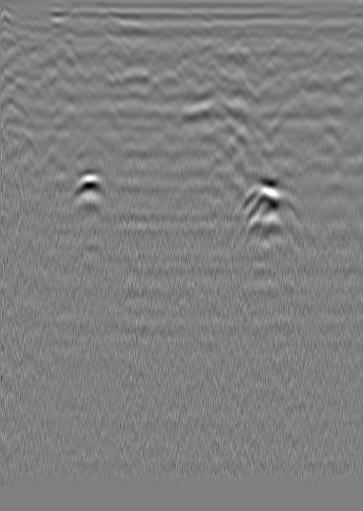가스: (65, 167, 112, 209)
상수: (317, 32, 337, 52)
오수: (13, 41, 33, 61)
우수: (169, 26, 189, 46)
